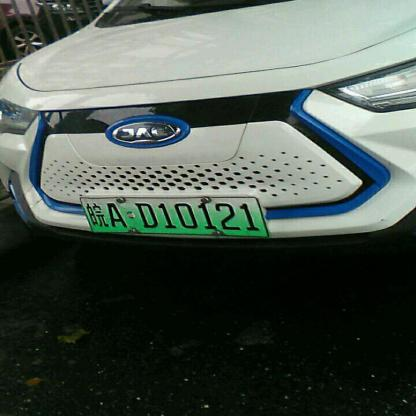lp: (79, 196, 268, 236)
